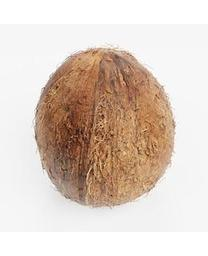coconut: (29, 45, 178, 210)
